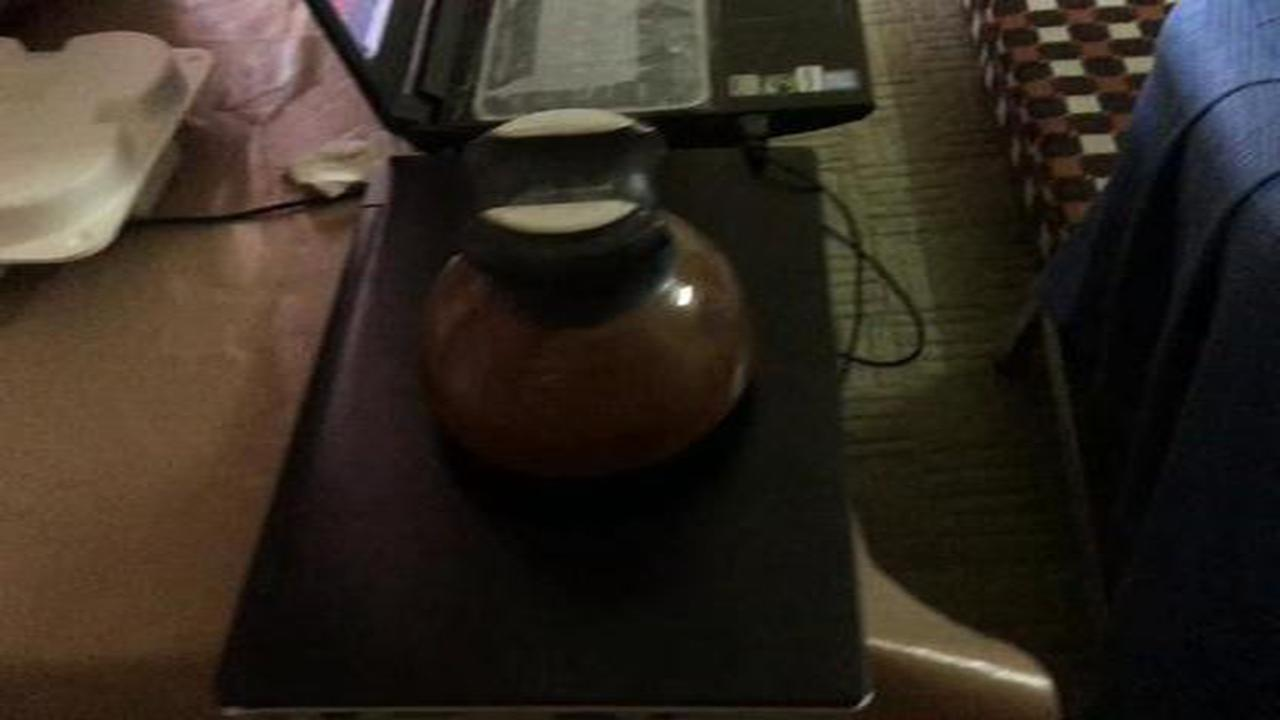insulator_pin: (386, 93, 791, 509)
